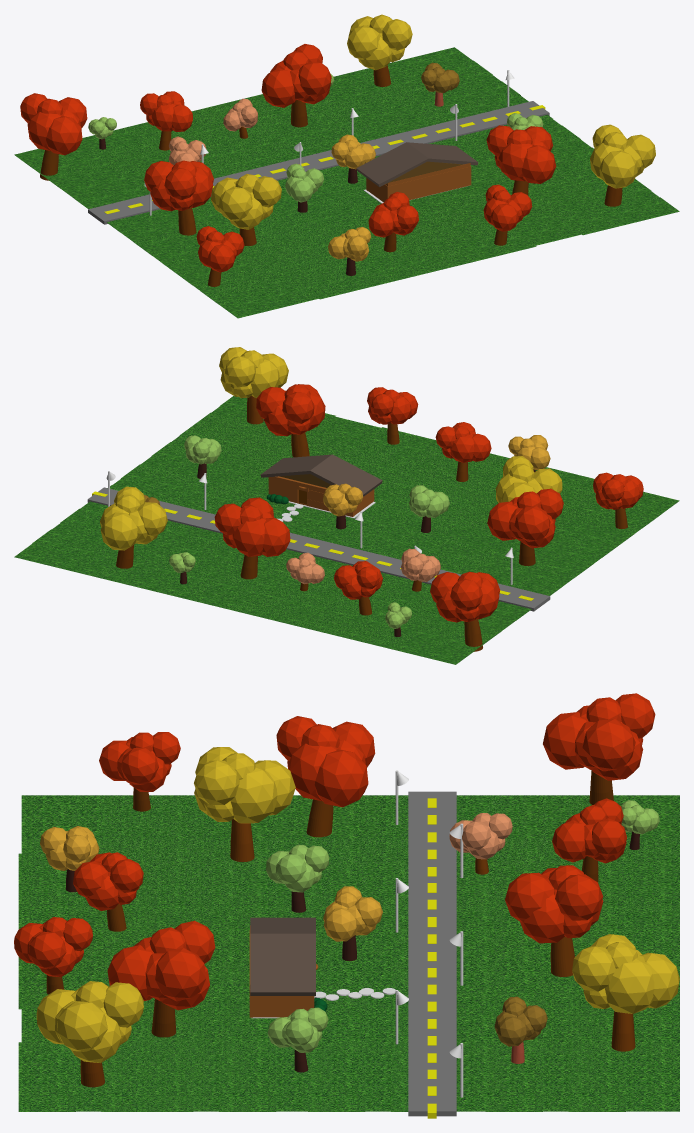
The model's file is house.glb.
The picture shows the model from 3 angles, top to bottom: view 1: azimuth 30°, elevation 25°; view 2: azimuth 150°, elevation 25°; view 3: azimuth 270°, elevation 25°; orthographic projection. The views are drawn at different scales.
Visible parts, largest first — view 1: Plane.004, Cube.005, Cylinder.030, Cylinder.029, Cylinder.027, Cylinder.028, Cylinder.012, Cylinder.024, Cylinder.025, Cube.004, Cube.006, Cylinder.026 (+11 smaller); view 2: Plane.004, Cube.005, Cylinder.030, Cylinder.028, Cylinder.029, Cylinder.025, Cylinder.027, Cylinder.012, Cube.004, Cylinder.024, Cylinder.008, Cylinder.014 (+11 smaller); view 3: Plane.004, Cube.005, Cylinder.028, Cylinder.029, Cylinder.027, Cylinder.025, Cylinder.012, Cylinder.024, Cylinder.030, Cube.004, Cylinder.015, Cylinder.026 (+10 smaller).
Part boxes in pixels (bbox=[...]): Plane.004: bbox=[14, 47, 679, 318]; Cube.005: bbox=[88, 101, 549, 224]; Cylinder.030: bbox=[261, 44, 331, 127]; Cylinder.029: bbox=[20, 93, 87, 180]; Cylinder.027: bbox=[486, 125, 556, 195]; Cylinder.028: bbox=[144, 160, 213, 235]; Cylinder.012: bbox=[590, 124, 655, 206]; Cylinder.024: bbox=[211, 174, 281, 245]; Cylinder.025: bbox=[347, 14, 412, 86]; Cube.004: bbox=[356, 142, 478, 186]; Cube.006: bbox=[366, 163, 471, 202]; Cylinder.026: bbox=[140, 91, 192, 150]; Plane.004: bbox=[14, 396, 679, 664]; Cube.005: bbox=[87, 487, 550, 611]; Cylinder.030: bbox=[214, 497, 290, 579]; Cylinder.028: bbox=[487, 488, 563, 565]; Cylinder.029: bbox=[430, 571, 500, 651]; Cylinder.025: bbox=[100, 486, 167, 568]; Cylinder.027: bbox=[256, 384, 325, 457]; Cylinder.012: bbox=[219, 347, 288, 424]; Cube.004: bbox=[260, 454, 382, 496]; Cylinder.024: bbox=[495, 456, 562, 502]; Cylinder.008: bbox=[435, 422, 491, 481]; Cylinder.014: bbox=[367, 387, 418, 444]; Plane.004: bbox=[18, 795, 679, 1111]; Cube.005: bbox=[408, 791, 456, 1118]; Cylinder.028: bbox=[276, 716, 375, 837]; Cylinder.029: bbox=[543, 693, 655, 804]; Cylinder.027: bbox=[107, 920, 215, 1037]; Cylinder.025: bbox=[572, 934, 679, 1051]; Cylinder.012: bbox=[36, 981, 143, 1087]; Cylinder.024: bbox=[194, 747, 295, 861]; Cylinder.030: bbox=[505, 865, 603, 976]; Cube.004: bbox=[250, 917, 315, 995]; Cylinder.015: bbox=[99, 732, 180, 811]; Cylinder.026: bbox=[552, 798, 626, 882].
Bounding box in the file's own units: 114 × 18.94 × 98.03.
462 materials, 384 textured.
